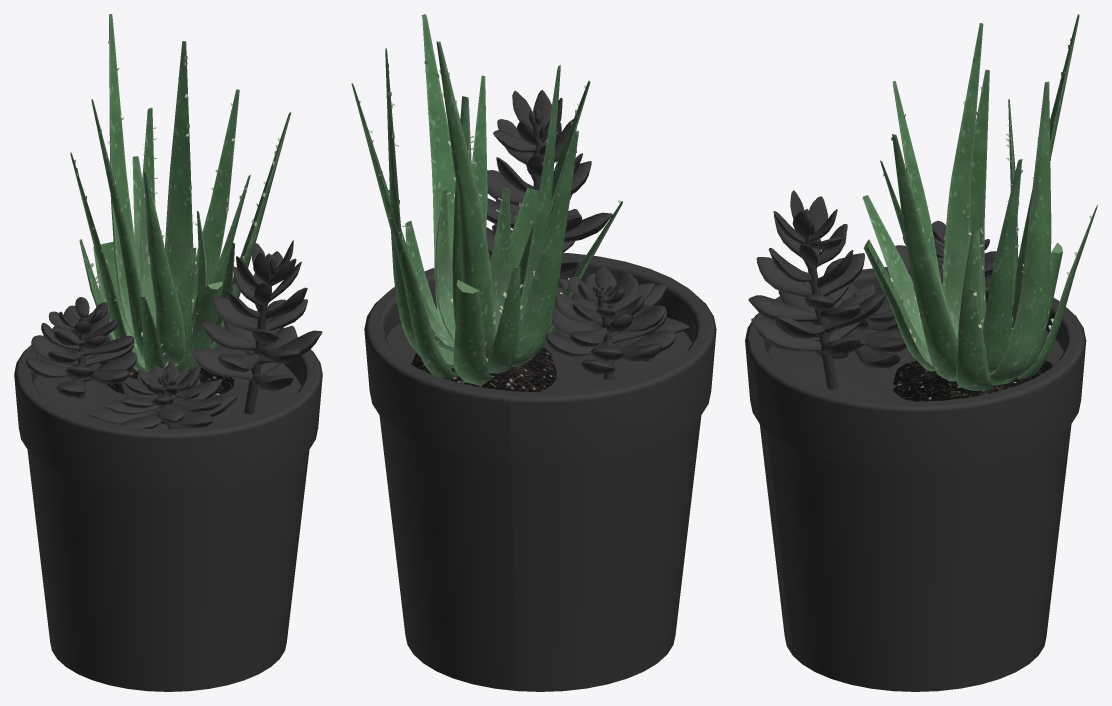
Rendered from SM_MERGED_succulents.FBX.
3 views of the same model, side by side, from view 1: azimuth 30°, elevation 25°; view 2: azimuth 150°, elevation 25°; view 3: azimuth 270°, elevation 25° (orthographic). The views are drawn at different scales.
Parts seen in each view (by area): view 1: SM_MERGED_succulents; view 2: SM_MERGED_succulents; view 3: SM_MERGED_succulents.
Part boxes in pixels (<box>): SM_MERGED_succulents: <box>14,14,322,691</box>; SM_MERGED_succulents: <box>351,14,716,691</box>; SM_MERGED_succulents: <box>745,14,1097,691</box>.
Size of what is drawn, in the model's own units: 22.42 by 23.18 by 45.68.
